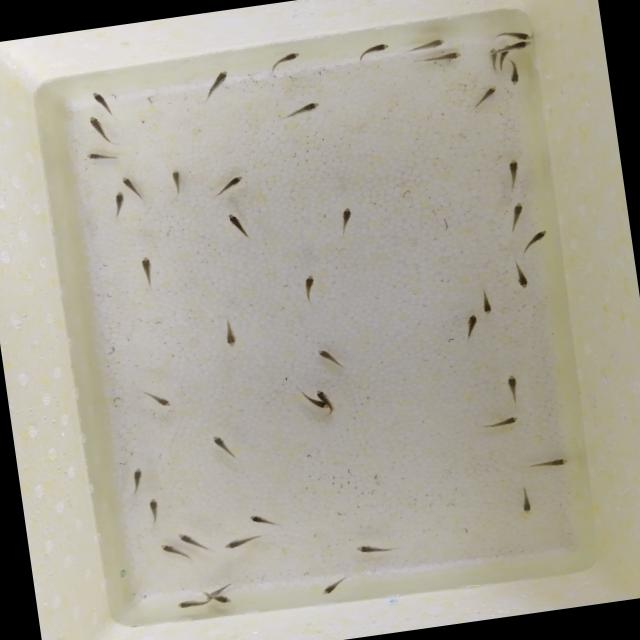fingerling: (513, 228, 553, 259), (88, 112, 120, 148), (331, 204, 360, 241), (312, 344, 345, 376), (246, 510, 292, 532), (264, 50, 306, 74), (501, 156, 526, 192), (351, 541, 396, 561), (164, 168, 192, 200), (502, 202, 529, 235), (177, 528, 211, 554), (202, 69, 232, 98), (296, 274, 322, 306), (215, 174, 249, 198), (218, 318, 242, 352), (226, 208, 249, 242), (472, 84, 502, 110), (90, 88, 120, 114), (120, 170, 146, 200), (282, 101, 323, 120), (82, 148, 124, 166), (476, 414, 522, 430), (417, 49, 466, 64), (511, 259, 532, 294), (356, 40, 392, 59), (212, 432, 232, 466), (522, 456, 570, 470), (149, 387, 175, 412), (138, 251, 156, 287), (516, 484, 536, 516), (144, 496, 164, 528), (316, 576, 346, 597), (126, 465, 148, 493), (505, 371, 523, 405), (460, 312, 480, 342), (166, 597, 203, 613), (478, 284, 496, 316), (413, 36, 447, 52), (224, 534, 253, 551), (111, 188, 128, 216), (161, 540, 183, 560), (204, 582, 228, 599), (304, 397, 326, 415), (508, 64, 524, 88), (507, 28, 532, 42), (213, 594, 236, 609), (316, 387, 334, 405), (509, 40, 534, 51), (498, 52, 508, 70), (488, 54, 498, 72)
